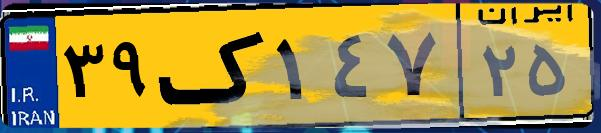1: (270, 28, 330, 110)
2: (475, 38, 525, 113)
3: (57, 26, 110, 100)
4: (330, 28, 385, 110)
5: (525, 38, 570, 115)
7: (385, 28, 445, 110)
9: (110, 28, 158, 98)
ک: (158, 12, 270, 120)
